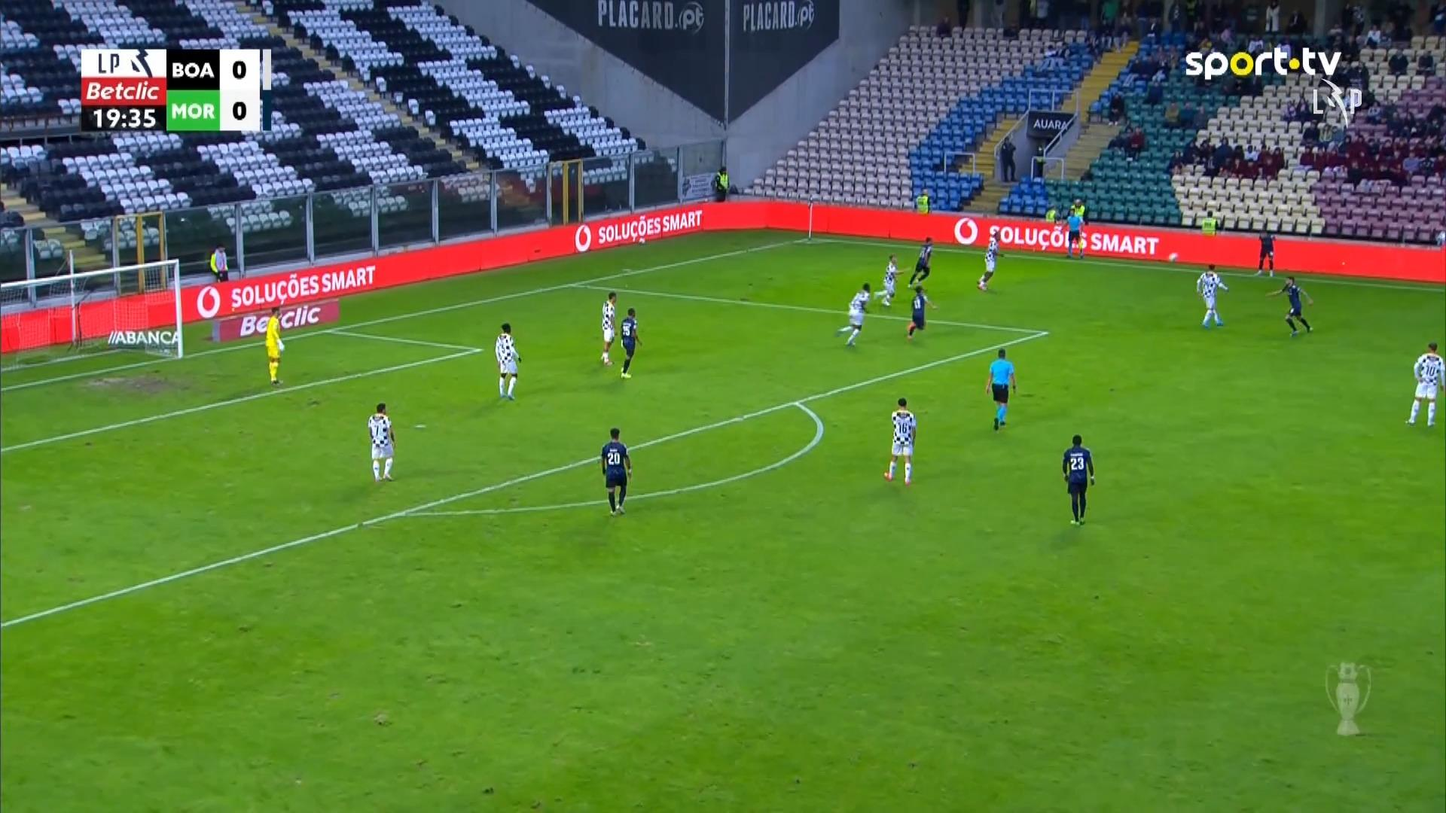ball: (1168, 252, 1177, 261)
goalkeeper: (264, 306, 285, 385)
player: (1405, 341, 1444, 426), (1060, 434, 1095, 525), (1265, 275, 1314, 336), (883, 397, 916, 485), (599, 427, 631, 515), (367, 402, 395, 482), (493, 322, 521, 400), (1195, 263, 1228, 327), (842, 282, 871, 346), (905, 283, 937, 340), (976, 226, 1003, 291), (618, 307, 641, 378), (599, 290, 618, 365), (906, 236, 933, 288), (879, 254, 899, 306), (1255, 227, 1275, 276)
referee: (984, 347, 1016, 430), (1063, 209, 1085, 259)
